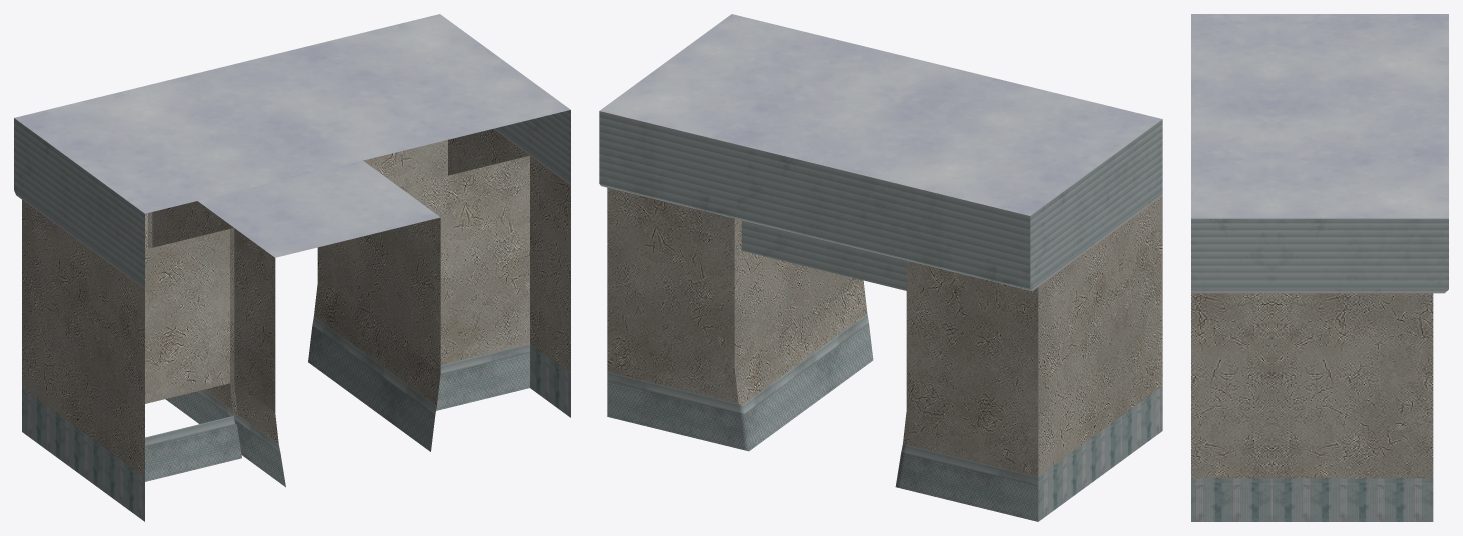
The model's file is MetroEndBaseOnly.fbx.
3 views of the same model, side by side, from view 1: azimuth 30°, elevation 25°; view 2: azimuth 150°, elevation 25°; view 3: azimuth 270°, elevation 25° (orthographic). The views are drawn at different scales.
Visible parts, largest first — view 1: MetroEndBaseOnly; view 2: MetroEndBaseOnly; view 3: MetroEndBaseOnly.
Boxes of the visible parts, x1=… form: MetroEndBaseOnly: x1=14, y1=14, x2=570, y2=521; MetroEndBaseOnly: x1=599, y1=14, x2=1162, y2=521; MetroEndBaseOnly: x1=1191, y1=14, x2=1448, y2=521.
Size of the model in its own units: 600 by 415 by 319.
4 materials, 4 textured.
